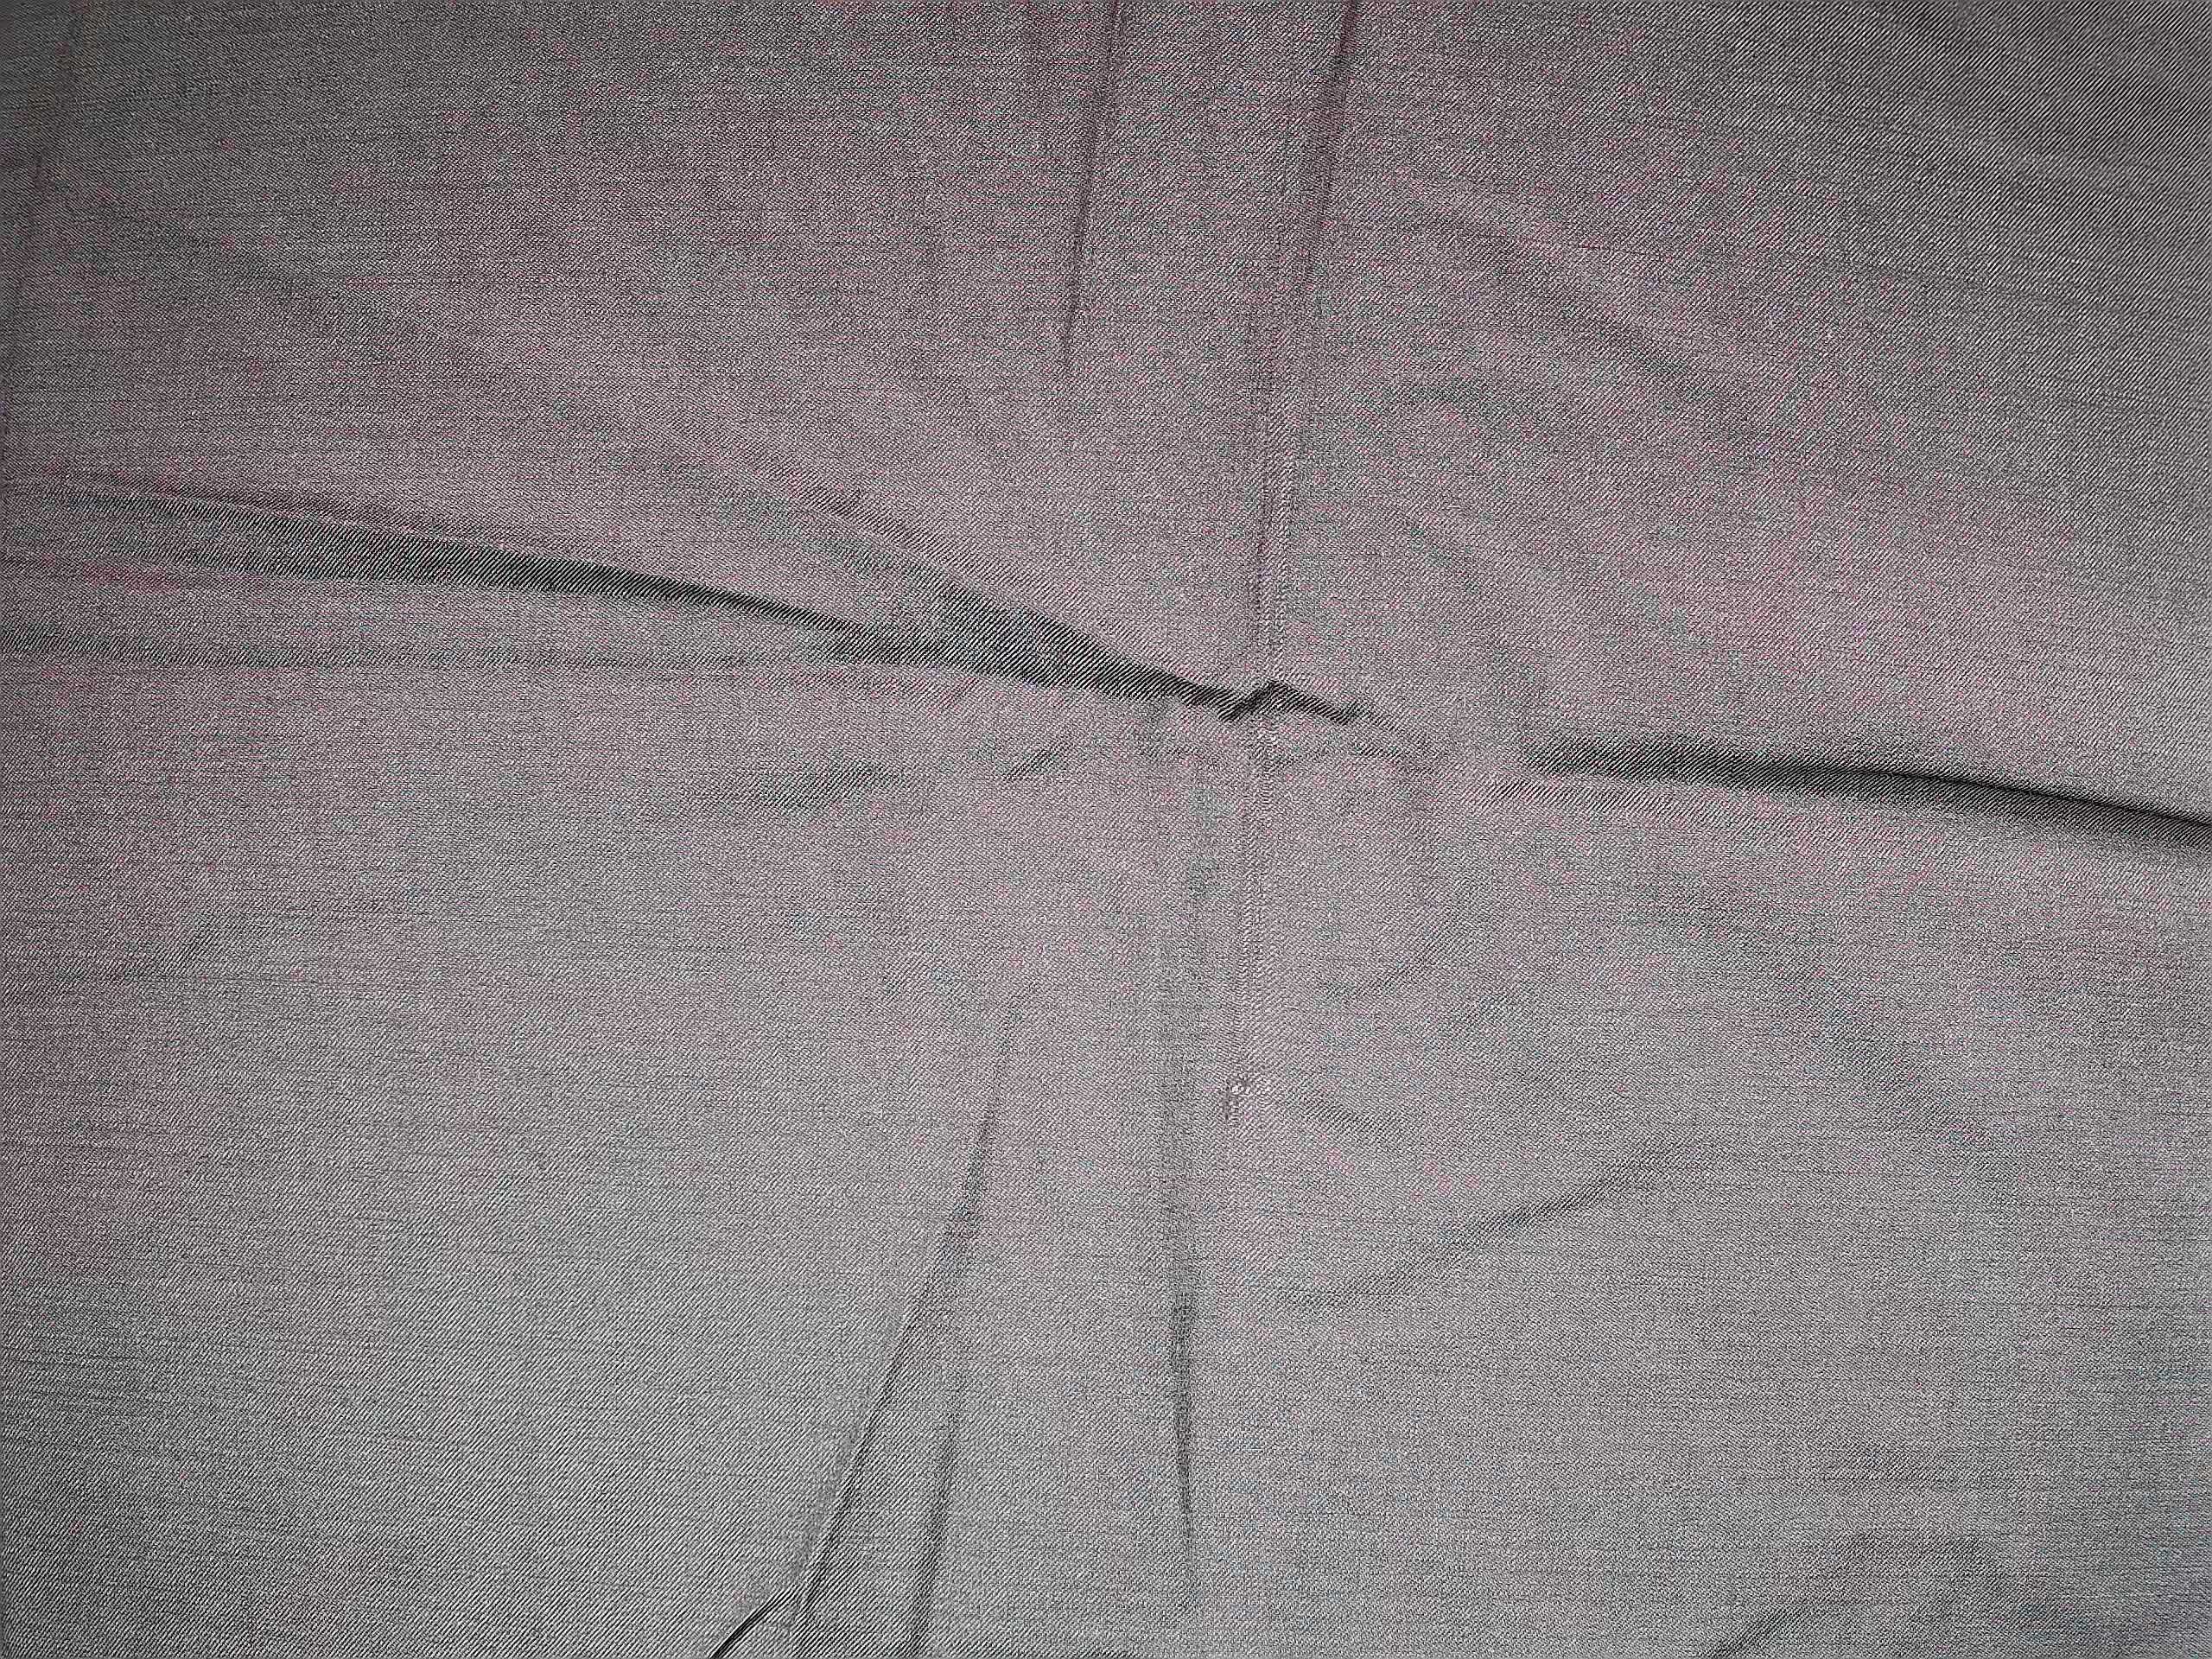hanging-warp: (1209, 10, 1318, 1157)
